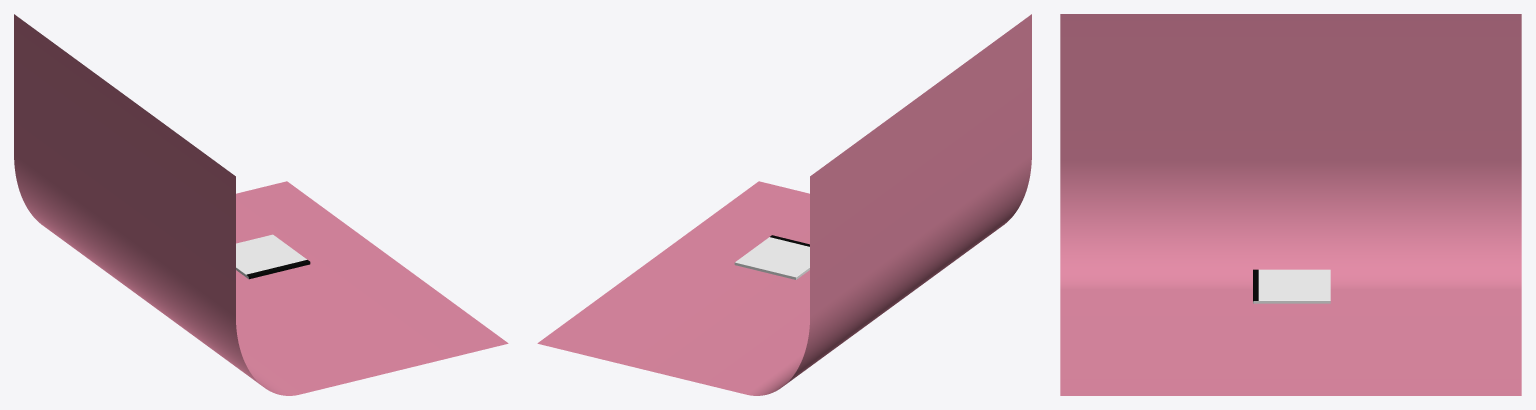
The model's file is disc tutorial.glb.
3 views of the same model, side by side, from view 1: azimuth 30°, elevation 25°; view 2: azimuth 150°, elevation 25°; view 3: azimuth 270°, elevation 25° (orthographic). The views are drawn at different scales.
Visible parts, largest first — view 1: Cube.003, Cube; view 2: Cube.003, Cube; view 3: Cube.003, Cube.
Boxes of the visible parts, bbox=[...] form: Cube.003: bbox=[14, 14, 508, 395]; Cube: bbox=[236, 234, 306, 278]; Cube.003: bbox=[537, 14, 1031, 395]; Cube: bbox=[734, 237, 809, 279]; Cube.003: bbox=[1060, 14, 1521, 395]; Cube: bbox=[1253, 269, 1330, 303].
Bounding box in the file's own units: 15.19 × 12.43 × 21.38.
